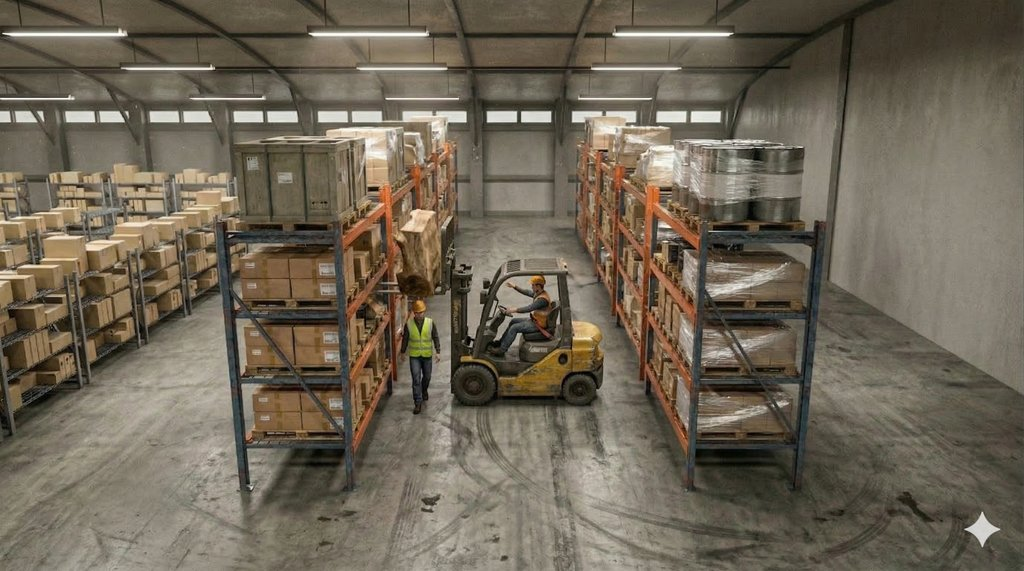forklift: (438, 247, 626, 418)
person: (489, 271, 563, 367), (394, 299, 447, 423)
safety_helmet: (521, 275, 550, 292), (404, 301, 430, 310)
safety_vest: (408, 319, 440, 363), (527, 294, 556, 328)
